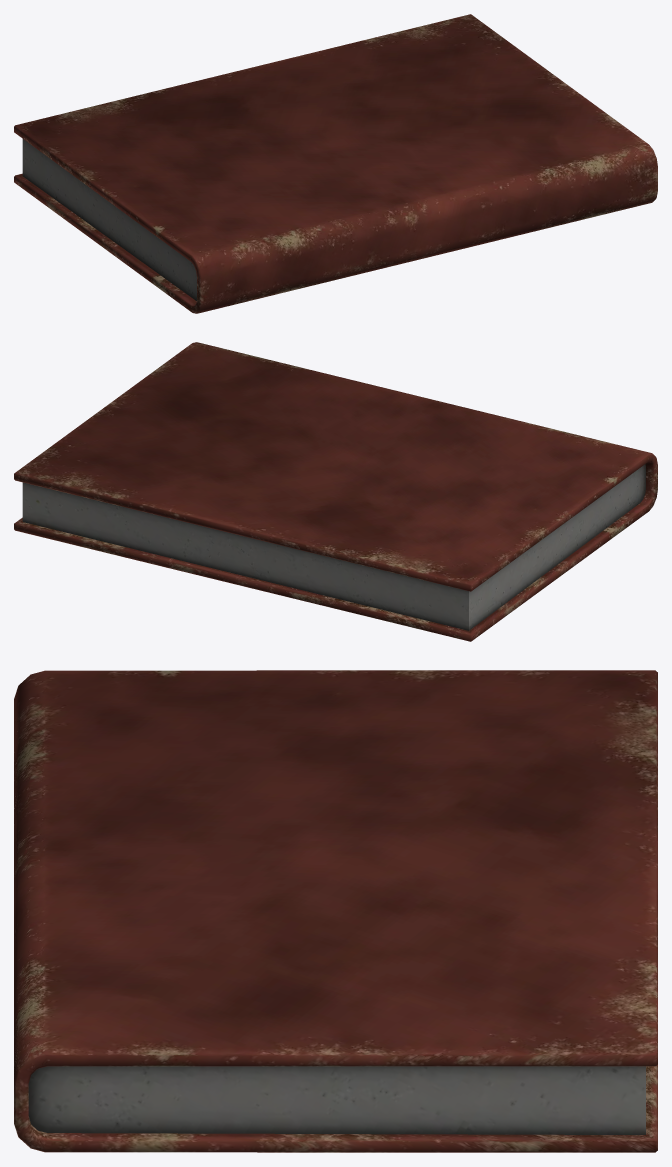
File: old_book-web.glb
The picture shows the model from 3 angles, top to bottom: view 1: azimuth 30°, elevation 25°; view 2: azimuth 150°, elevation 25°; view 3: azimuth 270°, elevation 25°; orthographic projection. The views are drawn at different scales.
Visible parts, largest first — view 1: Cube; view 2: Cube; view 3: Cube.
Part boxes in pixels (x1,y1,x2,y2): Cube: (14,14,657,313); Cube: (14,342,657,641); Cube: (14,670,657,1152).
Bounding box in the file's own units: 0.0712 × 0.00861 × 0.0504.
1 material, 1 textured.
